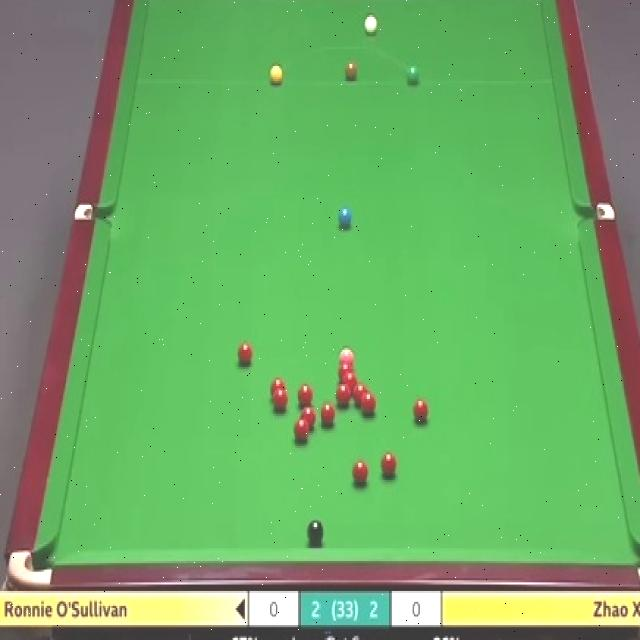black-ball: (305, 517, 324, 542)
blue-ball: (338, 208, 352, 226)
brown-ball: (346, 61, 358, 80)
green-ball: (405, 62, 421, 86)
pink-ball: (338, 347, 356, 363)
red-ball: (412, 394, 429, 423), (295, 415, 312, 439), (336, 383, 352, 408), (236, 341, 252, 366), (321, 400, 336, 425), (359, 391, 376, 413), (297, 383, 314, 404), (274, 387, 288, 412), (352, 456, 366, 481), (380, 451, 395, 474), (341, 371, 357, 391), (301, 409, 317, 429), (352, 380, 367, 401), (270, 376, 283, 398), (336, 362, 353, 377)
white-ball: (363, 15, 377, 34)
yellow-ball: (270, 64, 283, 86)
